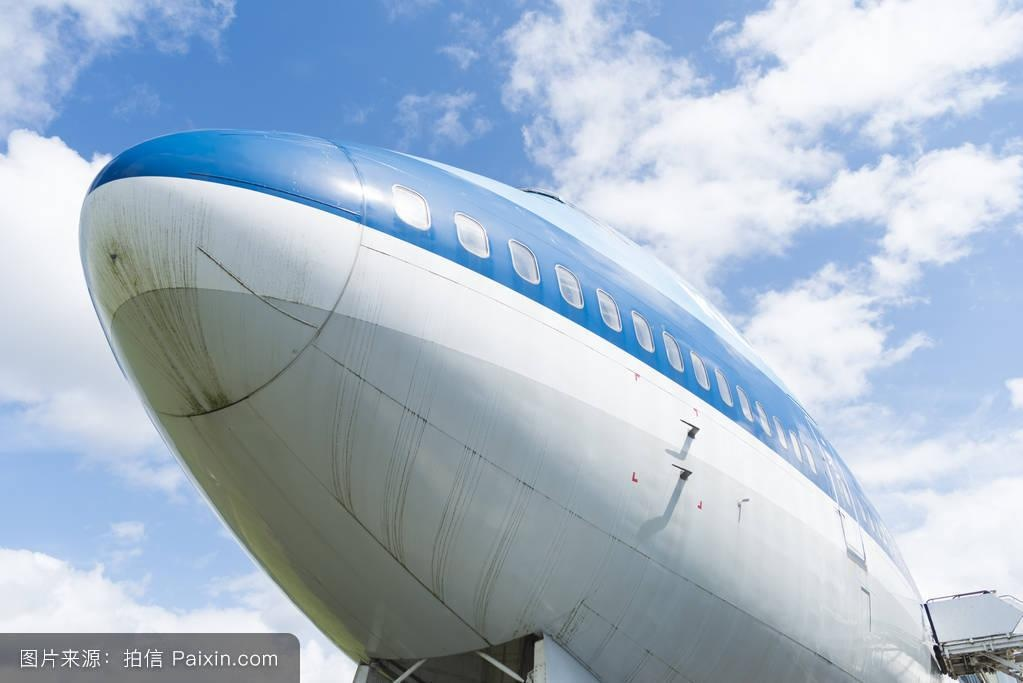airplane: (76, 115, 976, 683)
